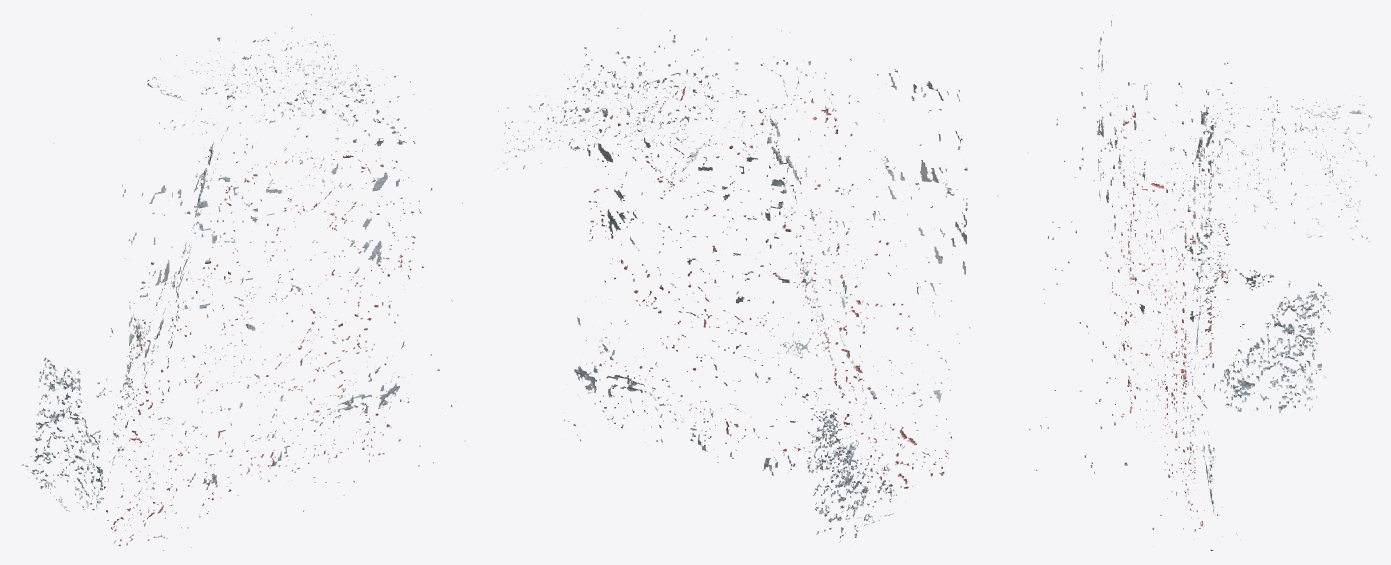
Rendered from R1-뜬면-1__nojudge_ALS_s0__removed.glb.
3 renders of one model, left to right at view 1: azimuth 30°, elevation 25°; view 2: azimuth 150°, elevation 25°; view 3: azimuth 270°, elevation 25°, orthographic. The views are drawn at different scales.
Bounding box in the file's own units: 33.47 × 36.46 × 30.5.
